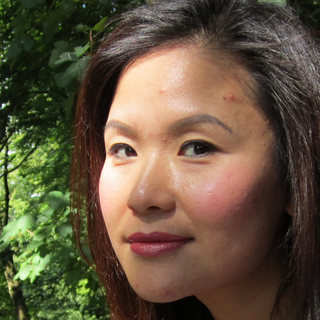eye: (173, 136, 221, 161), (103, 141, 144, 162)
